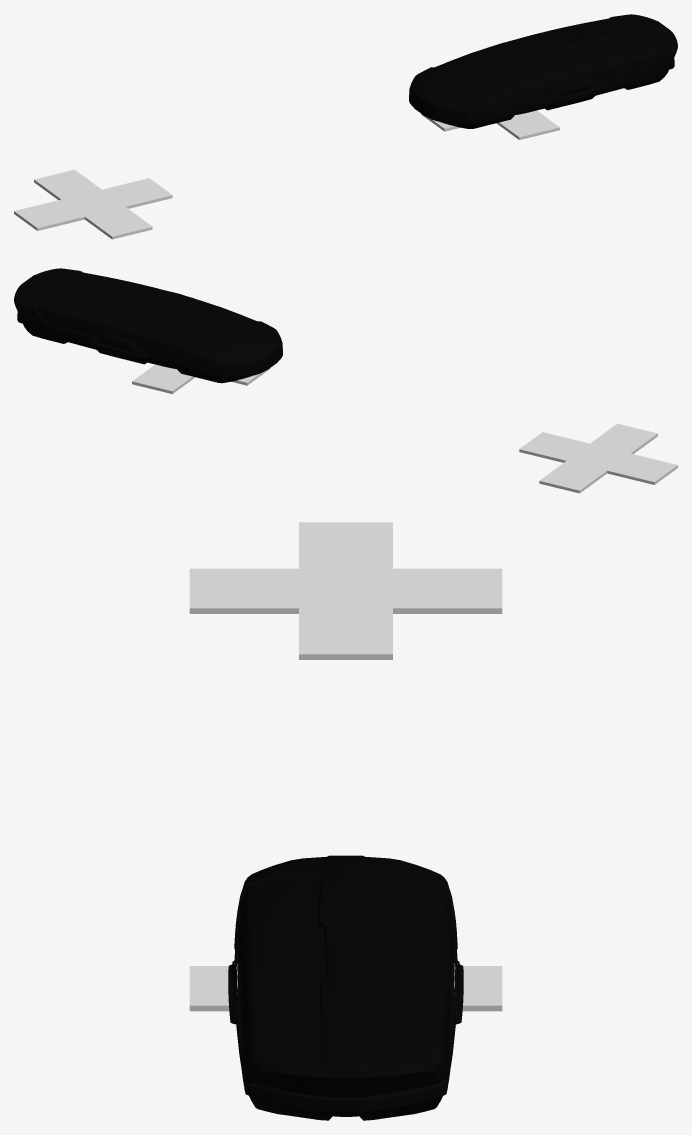
Rendered from Thule Motion XT Alpine 629500-Low_v25.glb.
The picture shows the model from 3 angles, top to bottom: view 1: azimuth 30°, elevation 25°; view 2: azimuth 150°, elevation 25°; view 3: azimuth 270°, elevation 25°; orthographic projection. The views are drawn at different scales.
Visible parts, largest first — view 1: Thule_motion_XT_Alpine_low, Box016, Box017, Box014; view 2: Thule_motion_XT_Alpine_low, Box017, Box016, Box014; view 3: Thule_motion_XT_Alpine_low, Box016, Box017, Box014.
Boxes of the visible parts, bbox=[...] form: Thule_motion_XT_Alpine_low: bbox=[409, 14, 677, 128]; Box016: bbox=[34, 169, 152, 239]; Box017: bbox=[14, 178, 172, 230]; Box014: bbox=[496, 110, 559, 139]; Thule_motion_XT_Alpine_low: bbox=[14, 268, 282, 383]; Box017: bbox=[519, 432, 677, 484]; Box016: bbox=[539, 423, 657, 493]; Box014: bbox=[132, 364, 195, 393]; Thule_motion_XT_Alpine_low: bbox=[228, 855, 463, 1120]; Box016: bbox=[189, 568, 502, 613]; Box017: bbox=[299, 522, 392, 659]; Box014: bbox=[189, 966, 502, 1011].
Size of the model in its own units: 0.4736 by 0.0323 by 0.1.
2 materials, 2 textured.
